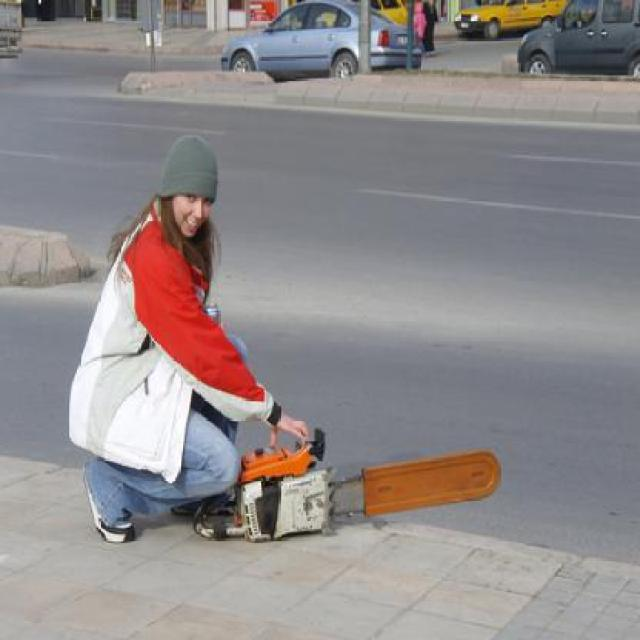Chainsaw: (193, 428, 504, 544)
